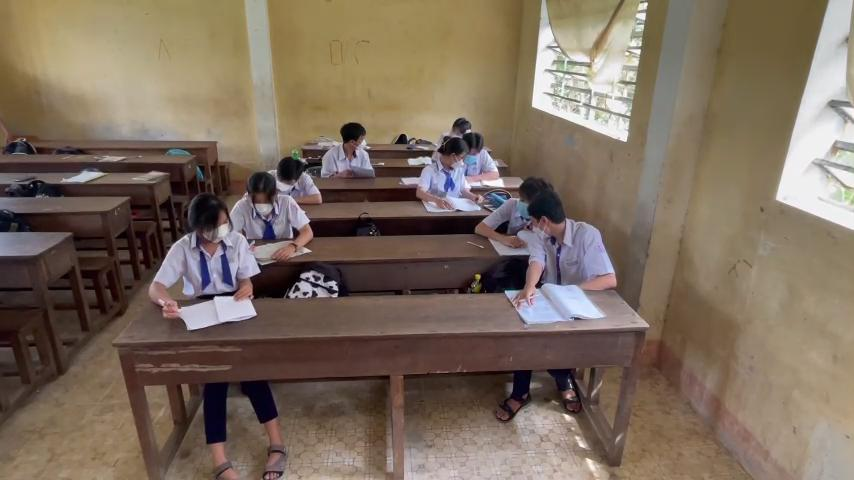Look Around: (159, 195, 256, 303), (517, 184, 572, 240), (330, 117, 371, 159), (433, 132, 474, 174)
Normal: (230, 174, 299, 239)
